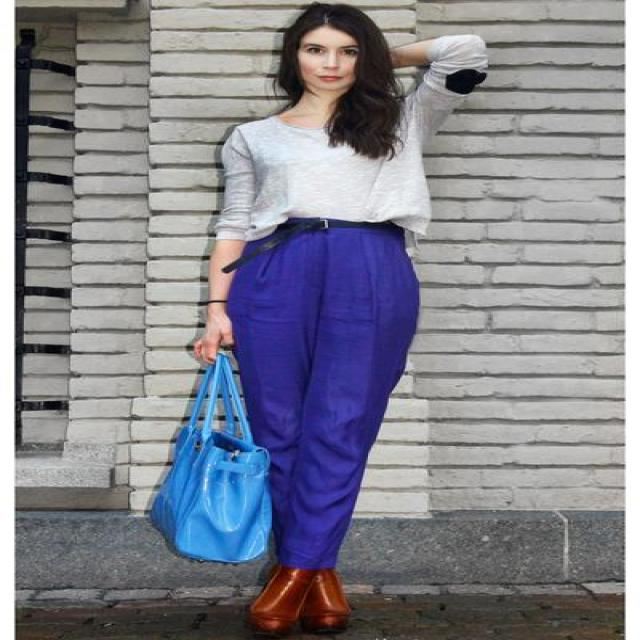bag: (144, 355, 270, 561)
pants: (211, 229, 440, 570)
shirt: (211, 34, 482, 242)
shoe: (250, 564, 352, 639)
